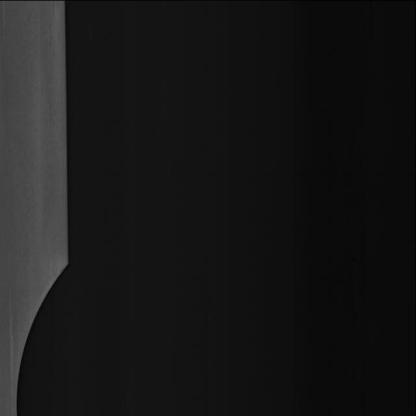crescent_gap: (10, 254, 78, 416)
